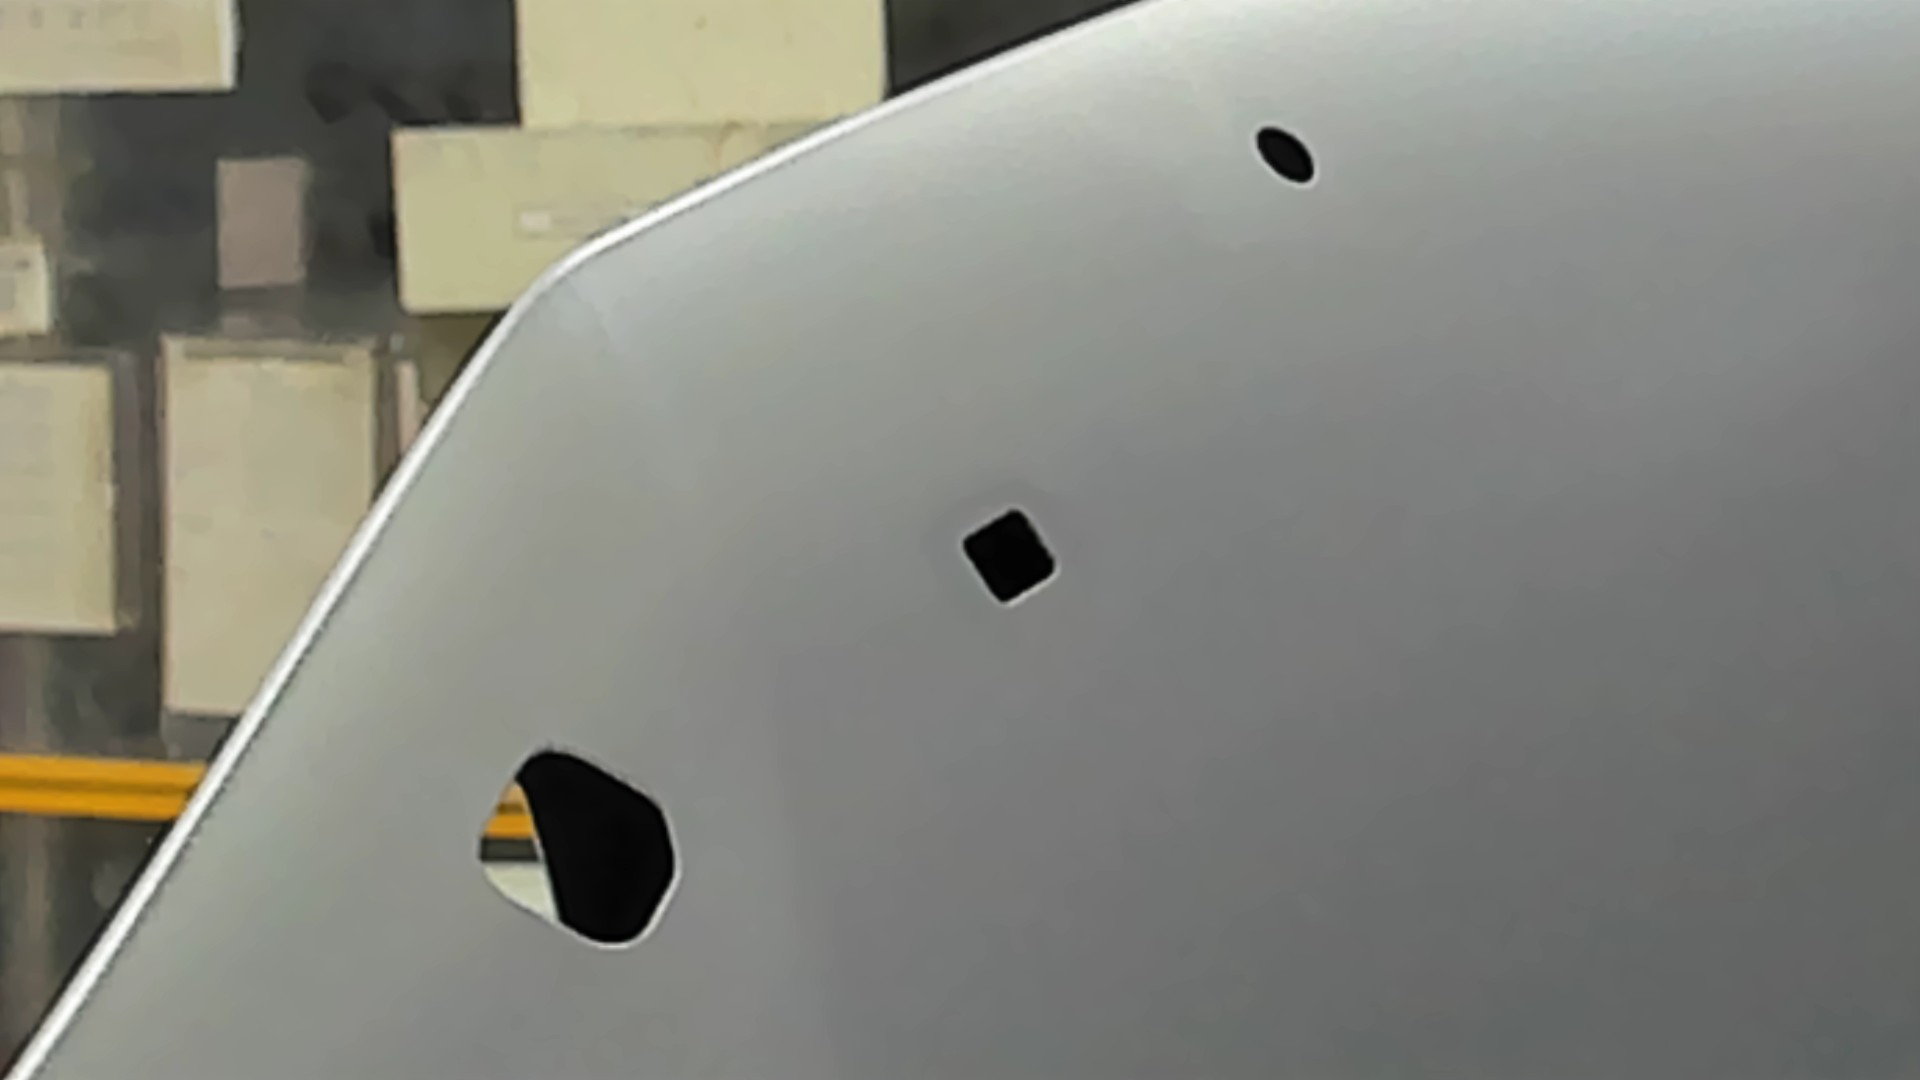chico: (1250, 123, 1320, 190)
grande: (471, 738, 687, 953)
mediano: (959, 505, 1062, 609)
